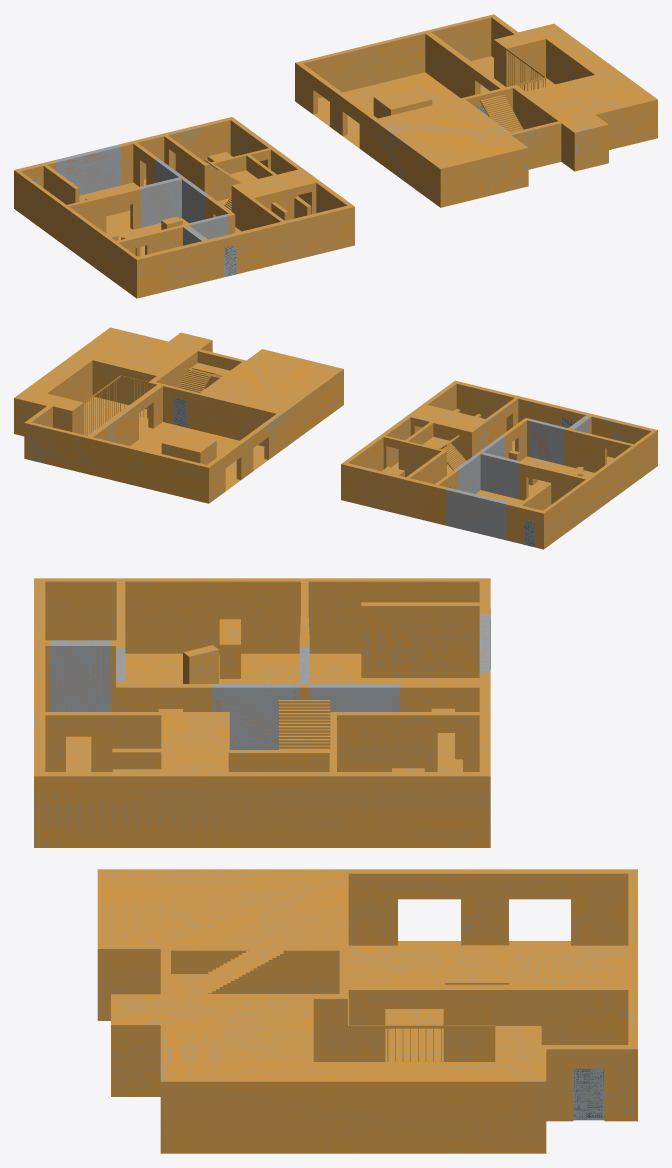
Rendered from kanal0.fbx.
3 views of the same model, one above another, from view 1: azimuth 30°, elevation 25°; view 2: azimuth 150°, elevation 25°; view 3: azimuth 270°, elevation 25° (orthographic). The views are drawn at different scales.
Parts seen in each view (by area): view 1: Model, Group5, Group2; view 2: Model, Group2, Group6, Group8, Group4; view 3: Model, Group3, Group5, Group7, Group2.
Part boxes in pixels (box(x1,y1,x2,y2)): Model: box(14, 14, 657, 298); Group5: box(480, 95, 523, 132); Group2: box(506, 48, 546, 90); Model: box(14, 327, 657, 549); Group2: box(84, 375, 147, 435); Group6: box(179, 369, 210, 392); Group8: box(173, 398, 187, 427); Group4: box(437, 440, 466, 470); Model: box(34, 578, 637, 1153); Group3: box(279, 700, 330, 749); Group5: box(208, 932, 283, 993); Group7: box(573, 1068, 604, 1120); Group2: box(348, 998, 495, 1061).
Size of the model in its own units: 77.84 by 6.52 by 39.46.
